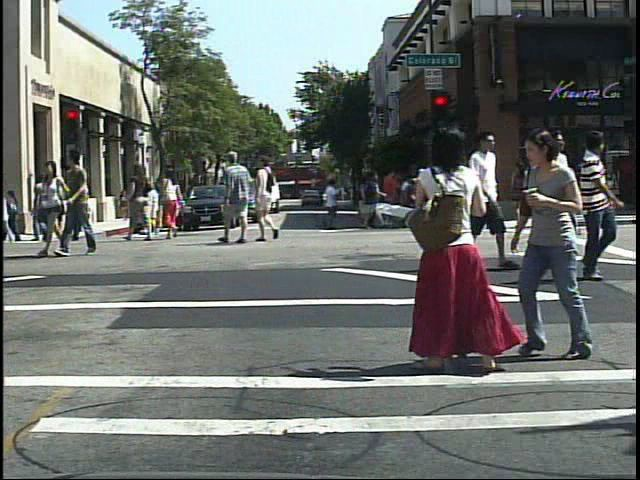person: (396, 123, 499, 378), (511, 121, 605, 366), (451, 128, 516, 277), (529, 132, 591, 280), (576, 127, 627, 283), (445, 141, 492, 248), (61, 148, 101, 262), (216, 149, 255, 247), (37, 159, 74, 261), (254, 152, 283, 247), (158, 164, 189, 244), (122, 163, 153, 242), (68, 169, 94, 246), (407, 165, 434, 233), (34, 167, 57, 245), (481, 165, 507, 233)
